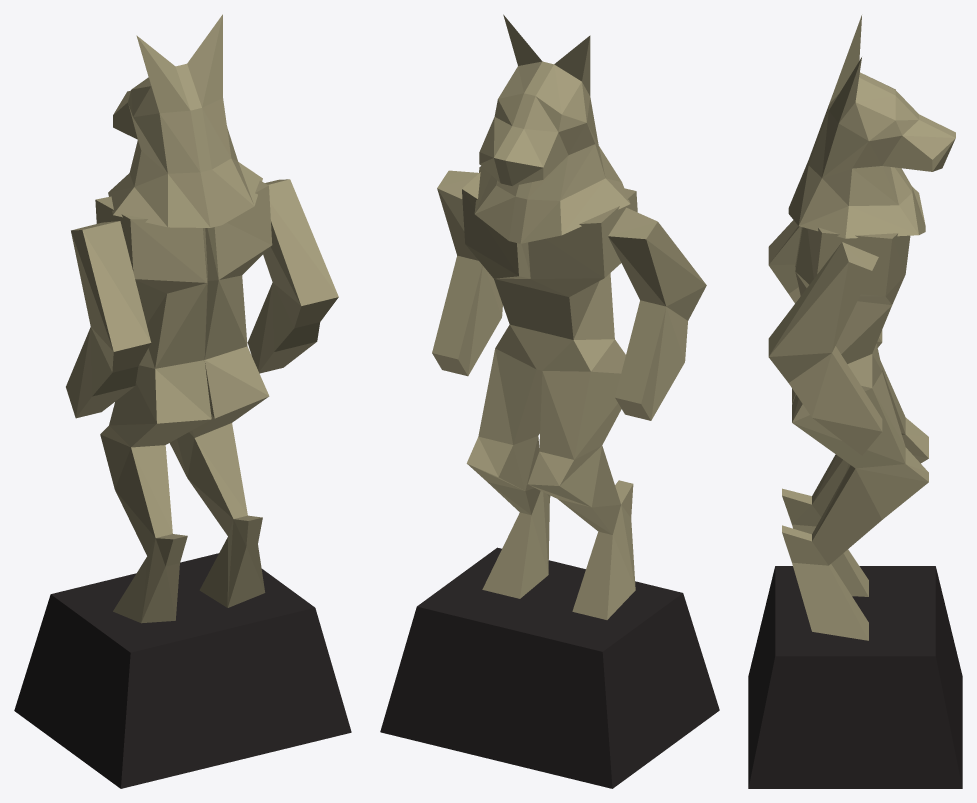
Rendered from obj_statue_4_0.obj.
3 views of the same model, side by side, from view 1: azimuth 30°, elevation 25°; view 2: azimuth 150°, elevation 25°; view 3: azimuth 270°, elevation 25° (orthographic).
Bounding box in the file's own units: 0.625 × 1.8 × 0.5.
